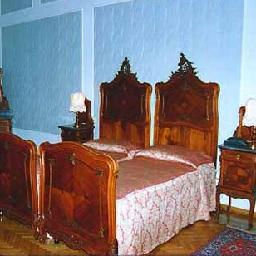Cama: (47, 151, 206, 246), (4, 139, 136, 170)
